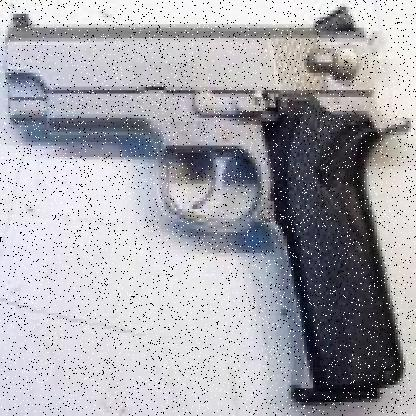pistol: (8, 10, 403, 398)
